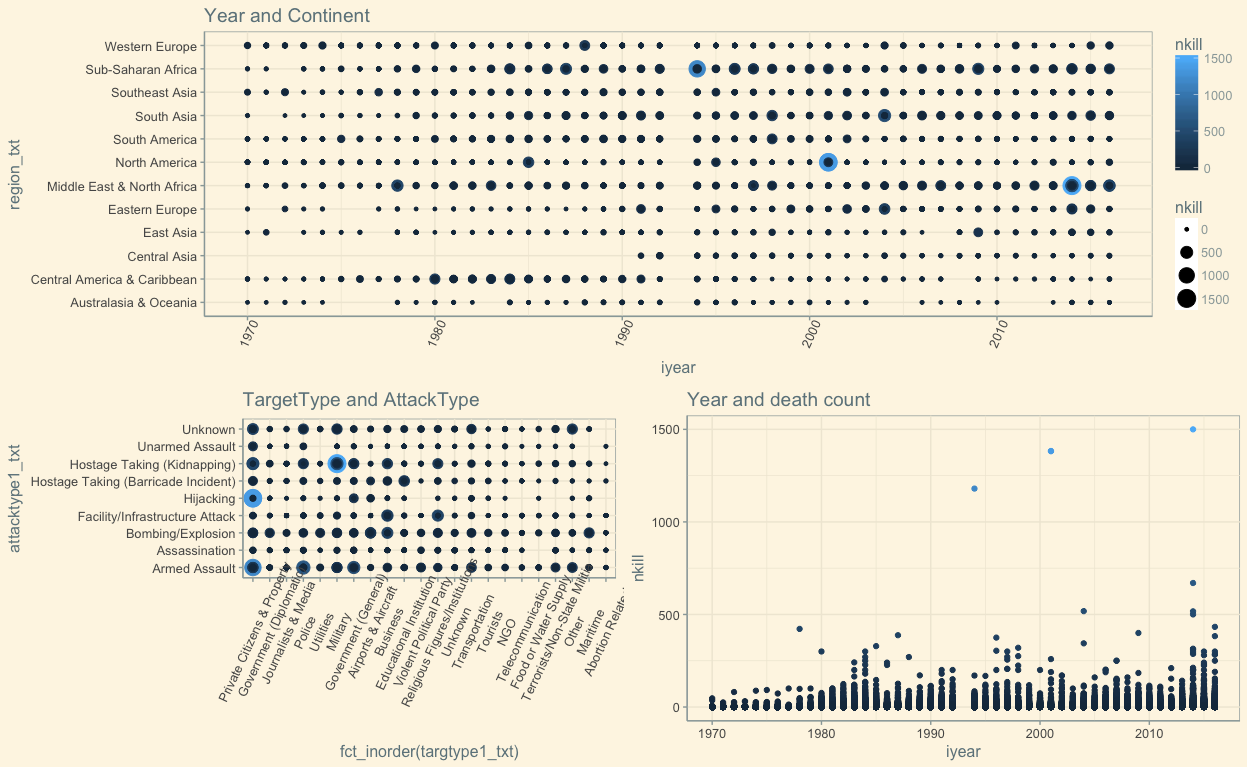

The page's visual inventory and layout, read from the dashboard file:
{"tool":"tableau","page":{"name":"Dashboard 1","canvas":[1000,800],"ordinal":0},"visuals":[{"type":"worksheet","title":"Sheet 3)","mark":"Automatic","rows":["Number of Records"],"cols":["provstate"],"box":[0,0,365.9,800]},{"type":"legend","title":"Sheet 3)","param":"[federated.0k3zxak1oaesum1dcgc9w01v58vp].[none:targtype1_txt:nk]","box":[365.9,0,132.1,800]},{"type":"worksheet","title":"Sheet 1","mark":"Automatic","rows":["Number of Records"],"cols":["provstate"],"box":[498,0,365.9,800]},{"type":"legend","title":"Sheet 1","param":"[federated.0k3zxak1oaesum1dcgc9w01v58vp].[none:attacktype1_txt:nk]","box":[863.9,0,132.1,800]}]}

Visuals, with their boxes on the page's 1000x800 design canvas (x1, y1, x2, y2). These are canvas units, not pixel positions in the 1247x767 screenshot, which may show the page scaled, cropped or inside an application window:
"Sheet 3)" worksheet: 0 0 366 800
"Sheet 3)" legend: 366 0 498 800
"Sheet 1" worksheet: 498 0 864 800
"Sheet 1" legend: 864 0 996 800
